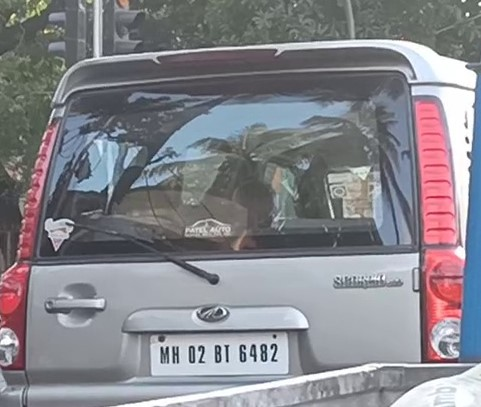MH02BT6482: (149, 329, 289, 375)
